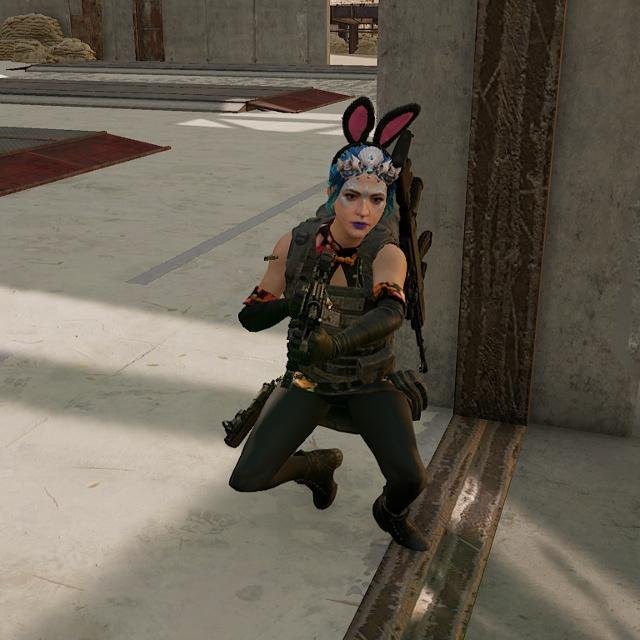head: (326, 137, 400, 245)
people: (216, 135, 457, 560)
